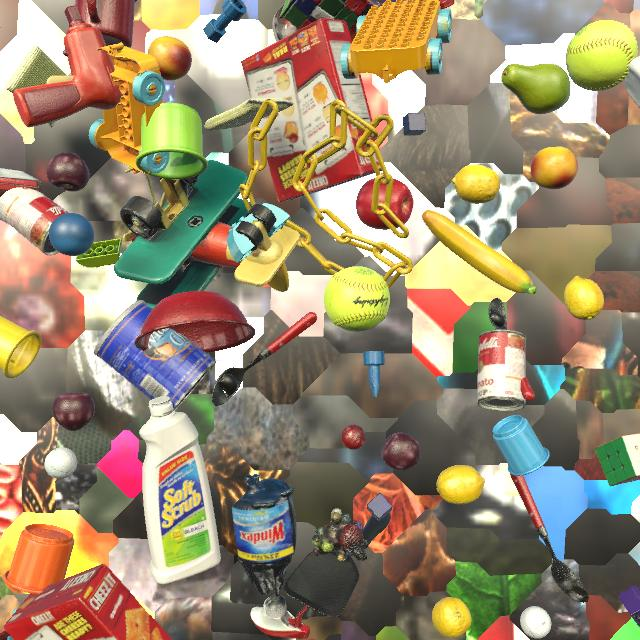ycb_002_master_chef_can: (94, 300, 216, 411)
ycb_003_cracker_box: (241, 18, 382, 202), (3, 563, 173, 640)
ycb_005_tomato_soup_can: (0, 187, 69, 256), (477, 330, 527, 411)
ycb_008_pudding_box: (0, 168, 41, 197)
ycb_011_banana: (422, 210, 537, 294)
ycb_012_strawberry: (308, 639, 317, 640)
ycb_013_apple: (356, 178, 413, 230)
ycb_014_lemon: (452, 164, 500, 204), (437, 465, 486, 504), (564, 276, 604, 320), (432, 597, 471, 638)
ycb_015_peach: (530, 146, 578, 189), (147, 36, 192, 81)
ycb_016_pear: (501, 63, 570, 114)
ycb_018_plum: (46, 152, 89, 192), (52, 392, 95, 431), (381, 432, 421, 470), (141, 492, 144, 507)
